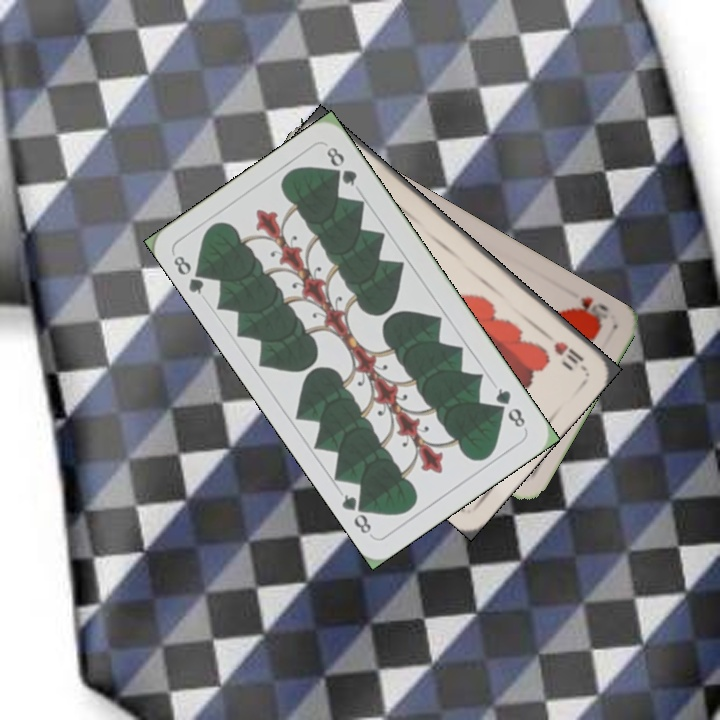G8: (169, 251, 211, 297), (491, 383, 528, 431)
H10: (549, 337, 587, 367)
HO: (567, 292, 612, 329)
